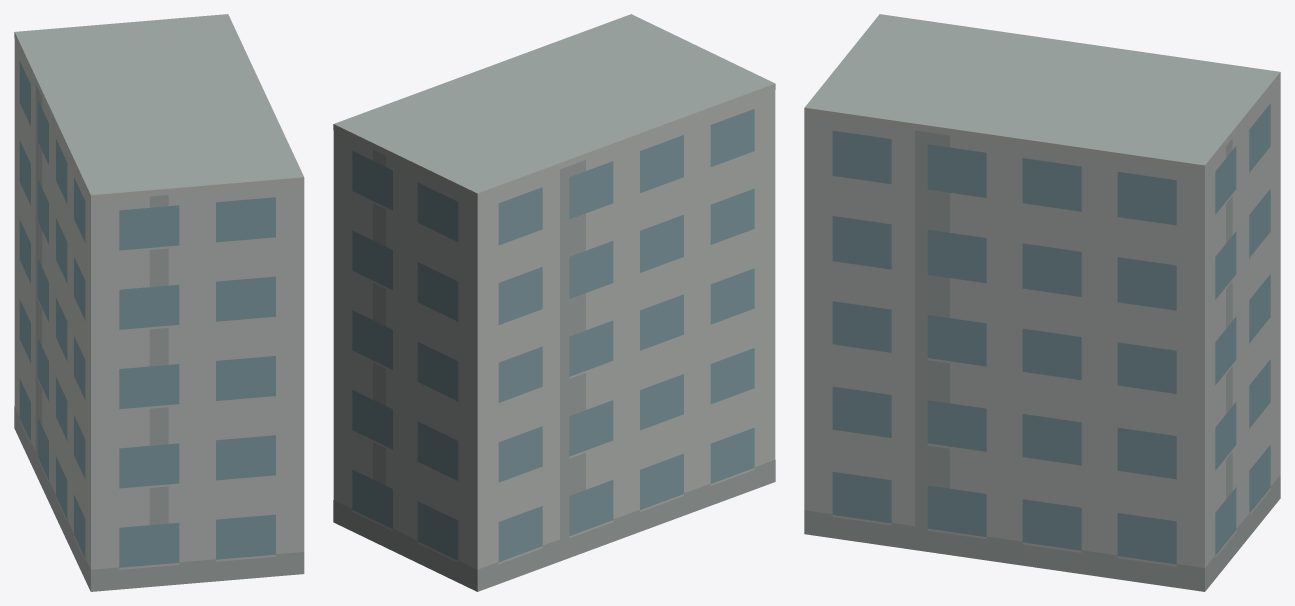
Rendered from residential-0ccf703e-dd0f-4b8d-915d-ddf901f457de.glb.
3 views of the same model, side by side, from view 1: azimuth 30°, elevation 25°; view 2: azimuth 150°, elevation 25°; view 3: azimuth 270°, elevation 25° (orthographic). The views are drawn at different scales.
Visible parts, largest first — view 1: residential-0ccf703e-dd0f-4b8d-915d-ddf901f457de.tmp; view 2: residential-0ccf703e-dd0f-4b8d-915d-ddf901f457de.tmp; view 3: residential-0ccf703e-dd0f-4b8d-915d-ddf901f457de.tmp.
Part boxes in pixels (left/top/right/bottom): residential-0ccf703e-dd0f-4b8d-915d-ddf901f457de.tmp: left=14, top=14, right=304, bottom=591; residential-0ccf703e-dd0f-4b8d-915d-ddf901f457de.tmp: left=333, top=14, right=775, bottom=591; residential-0ccf703e-dd0f-4b8d-915d-ddf901f457de.tmp: left=804, top=14, right=1280, bottom=591.
Bounding box in the file's own units: 11.62 × 15.25 × 15.44.
